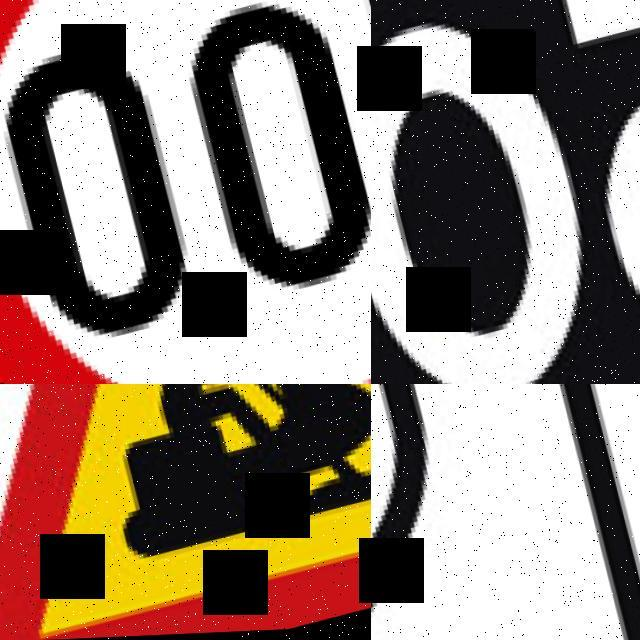100: (371, 0, 640, 384)
170: (371, 384, 640, 640)
snowmobiles: (0, 384, 371, 640)
speed limit-100: (0, 0, 371, 384)
